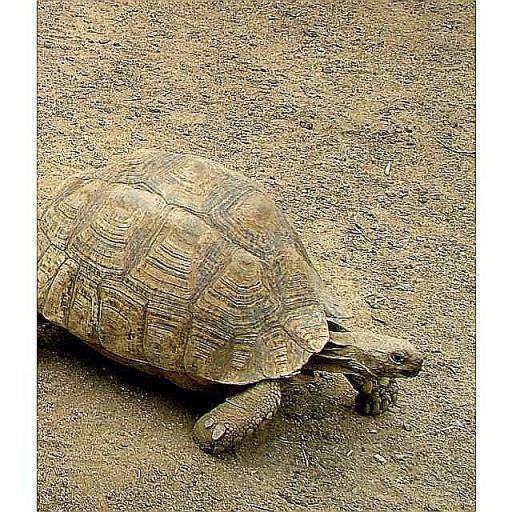turtle: (37, 144, 424, 446)
